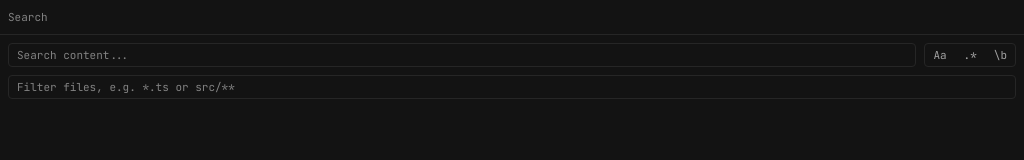
Scenario: SearchPanel › Error handling › shows banner for 503 ripgrep not found error
Type "test" into the field with placeholder "Search content...".
click(462, 55); type("test")  # box 8,43 -> 916,67
Wait 200 ms
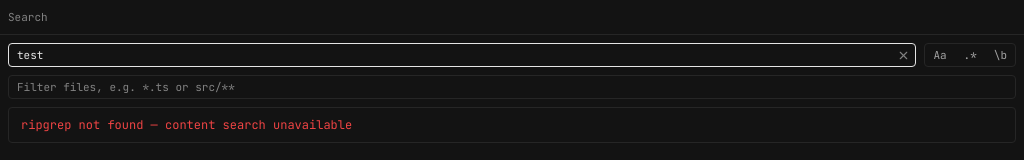
Now the text "ripgrep not found — content search unavailable" is shown, box 8,107 -> 1016,143
